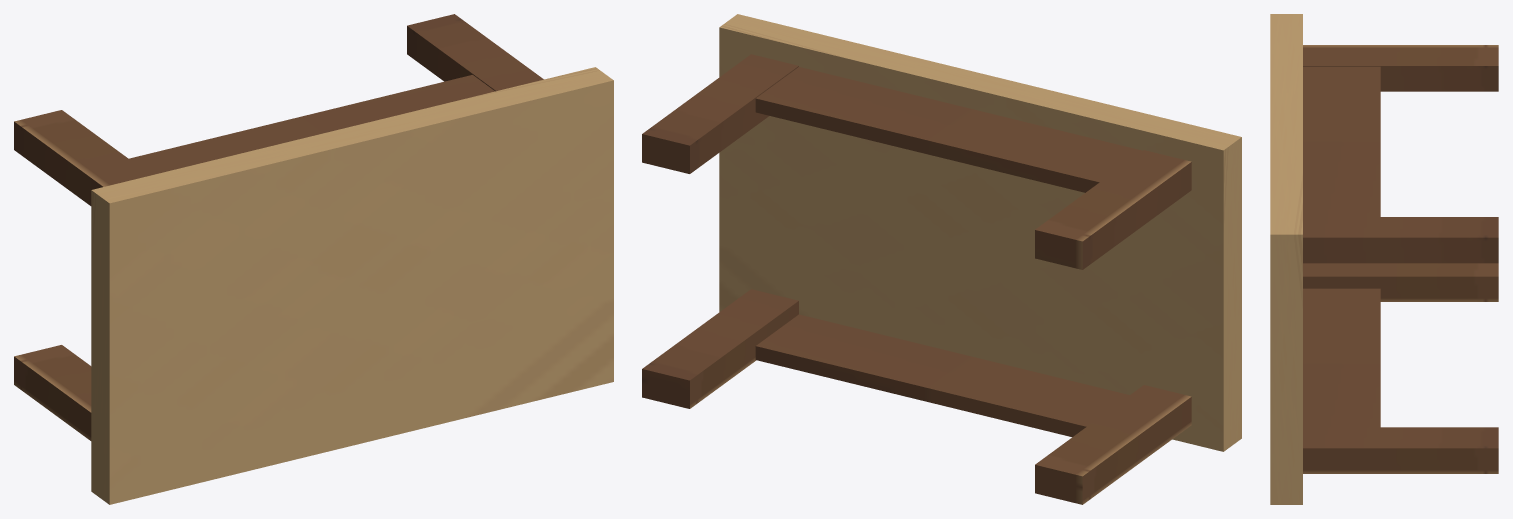
The model's file is pz_table_tables_low_01_light.obj.
3 renders of one model, left to right at view 1: azimuth 30°, elevation 25°; view 2: azimuth 150°, elevation 25°; view 3: azimuth 270°, elevation 25°, orthographic. The views are drawn at different scales.
Size of the model in its own units: 0.875 by 0.5 by 0.3827.
1 material, 1 textured.
